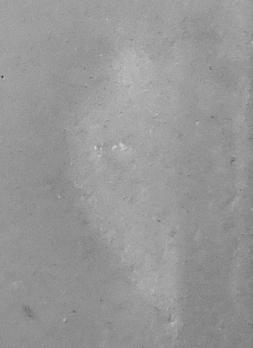dent: (1, 0, 253, 348)
